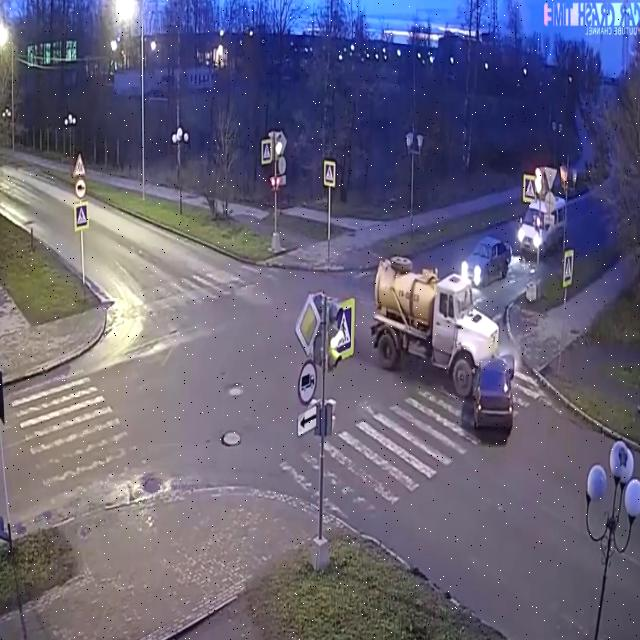accident: (366, 247, 528, 459)
